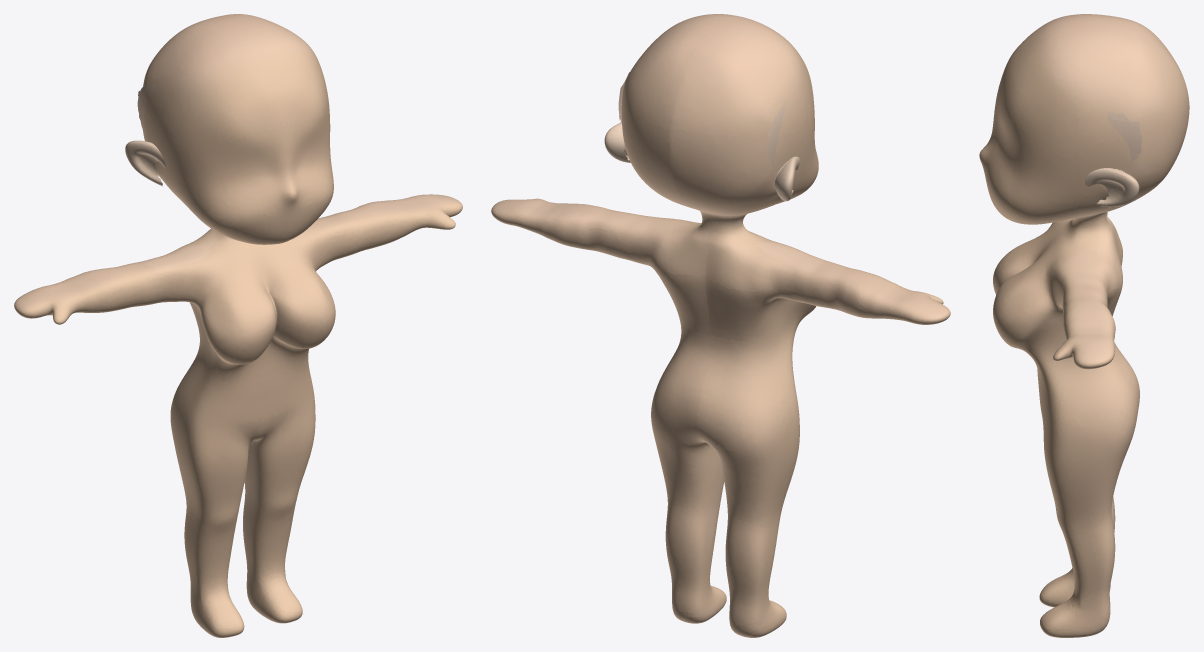
File: char_yeoja_base_v19.glb
3 views of the same model, side by side, from view 1: azimuth 30°, elevation 25°; view 2: azimuth 150°, elevation 25°; view 3: azimuth 270°, elevation 25° (orthographic). The views are drawn at different scales.
Size of the model in its own units: 1.49 by 1.9 by 0.6085.
2 materials, 2 textured.
